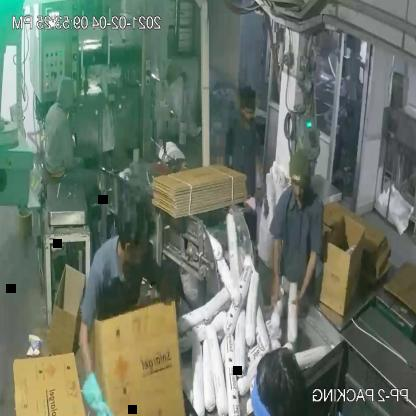glove: (84, 364, 119, 416)
no_glove: (290, 239, 320, 313), (268, 228, 287, 314), (255, 146, 270, 195)
